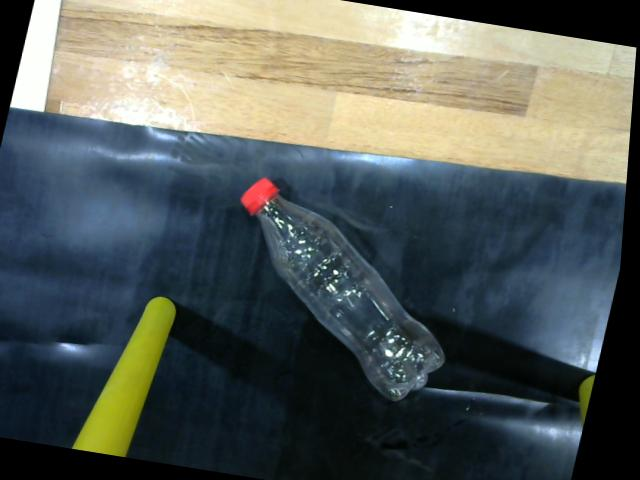bottle: (236, 171, 462, 412)
